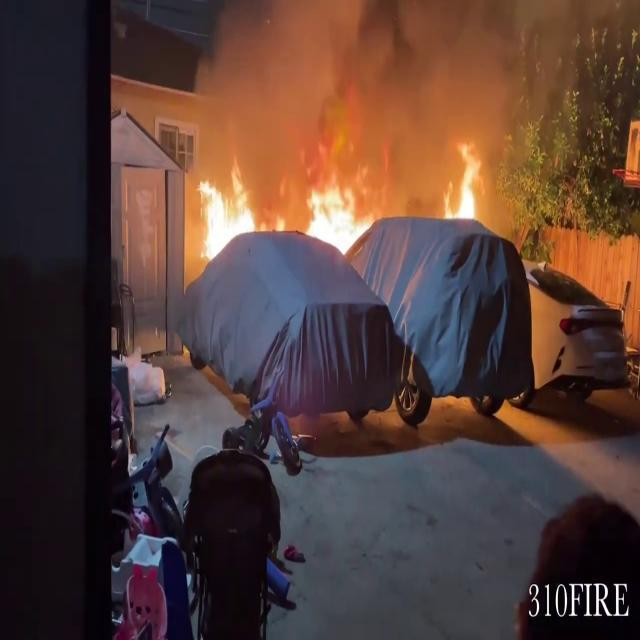Fire: (297, 170, 377, 260), (190, 163, 260, 265), (439, 134, 489, 228)
Smoke: (187, 0, 573, 163)
